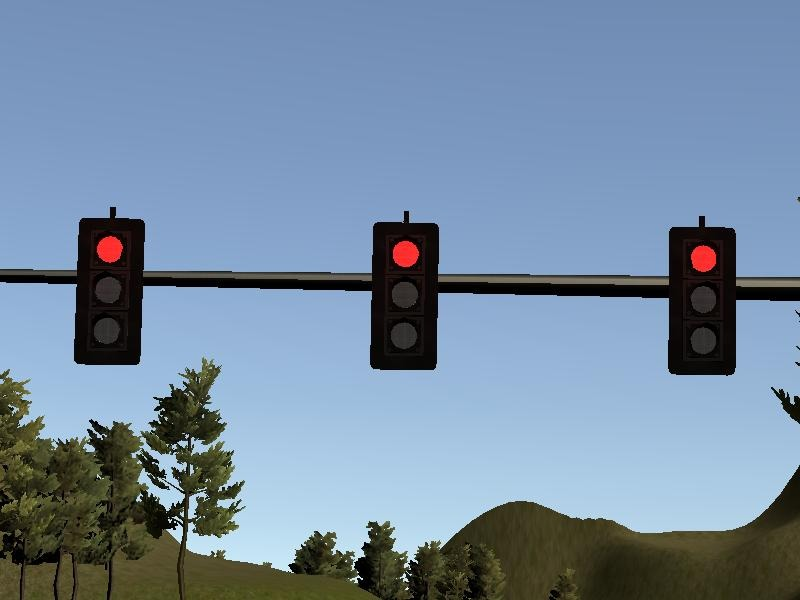red: (75, 218, 144, 364), (669, 227, 738, 373), (370, 223, 439, 369)
